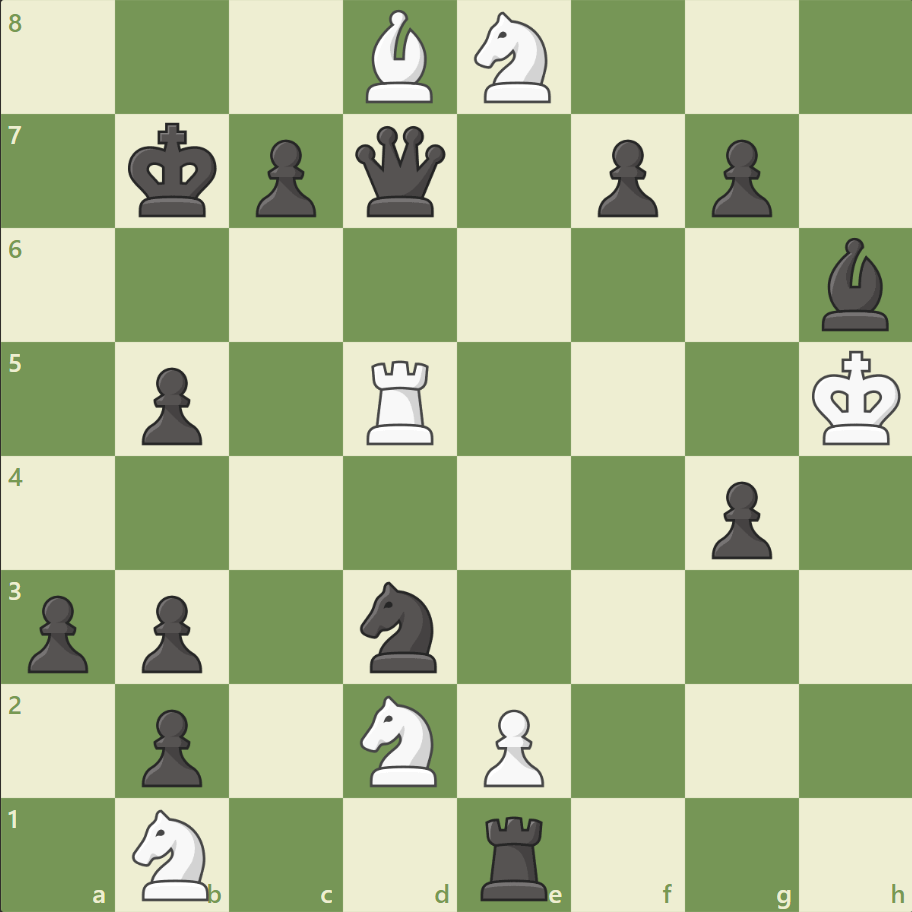B: (358, 6, 442, 109)
K: (806, 344, 906, 452)
N: (351, 688, 449, 791), (124, 802, 222, 904), (465, 7, 562, 110)
P: (474, 700, 549, 791)
R: (360, 352, 442, 449)
b: (812, 233, 896, 336)
k: (124, 117, 224, 225)
n: (351, 575, 449, 677)
p: (247, 132, 322, 223), (701, 132, 776, 223), (133, 359, 208, 450), (701, 473, 776, 564), (20, 586, 95, 677), (133, 586, 208, 677), (133, 700, 208, 791), (588, 132, 662, 223)
q: (351, 122, 450, 222)
r: (473, 806, 556, 904)
